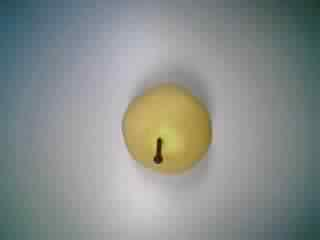pear: (119, 77, 218, 180)
